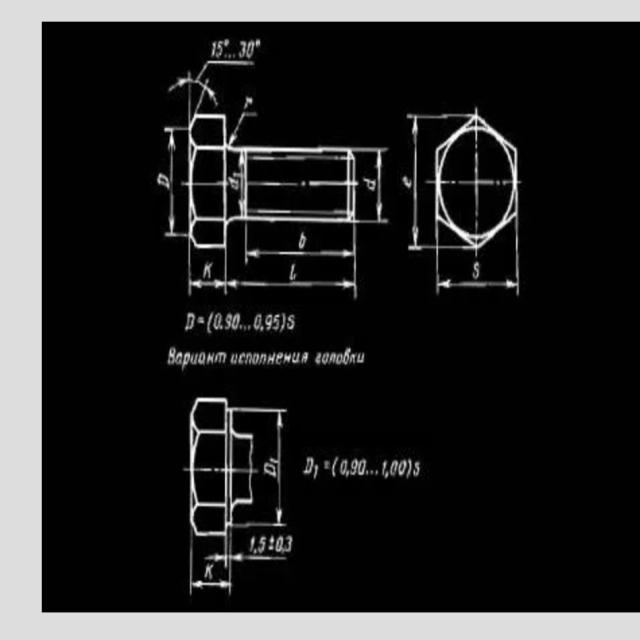marking_line: (224, 250, 358, 295), (244, 223, 356, 265), (406, 113, 435, 252), (256, 410, 288, 532), (432, 251, 521, 294), (204, 538, 289, 569), (189, 537, 233, 596), (357, 147, 390, 224), (164, 127, 186, 239), (166, 74, 219, 111), (187, 251, 229, 294), (230, 109, 257, 144), (238, 152, 244, 216)
numeric: (202, 261, 214, 280), (349, 458, 358, 478), (247, 40, 256, 59), (214, 312, 223, 331), (224, 311, 232, 332), (380, 459, 389, 477), (389, 460, 398, 478), (216, 40, 224, 60), (232, 311, 240, 330), (264, 313, 272, 331), (339, 457, 347, 475), (239, 40, 247, 57), (358, 459, 366, 476), (398, 460, 407, 475), (273, 313, 280, 331), (254, 314, 261, 330), (212, 40, 217, 58)
special_symbol: (255, 39, 261, 47), (224, 38, 229, 47)
